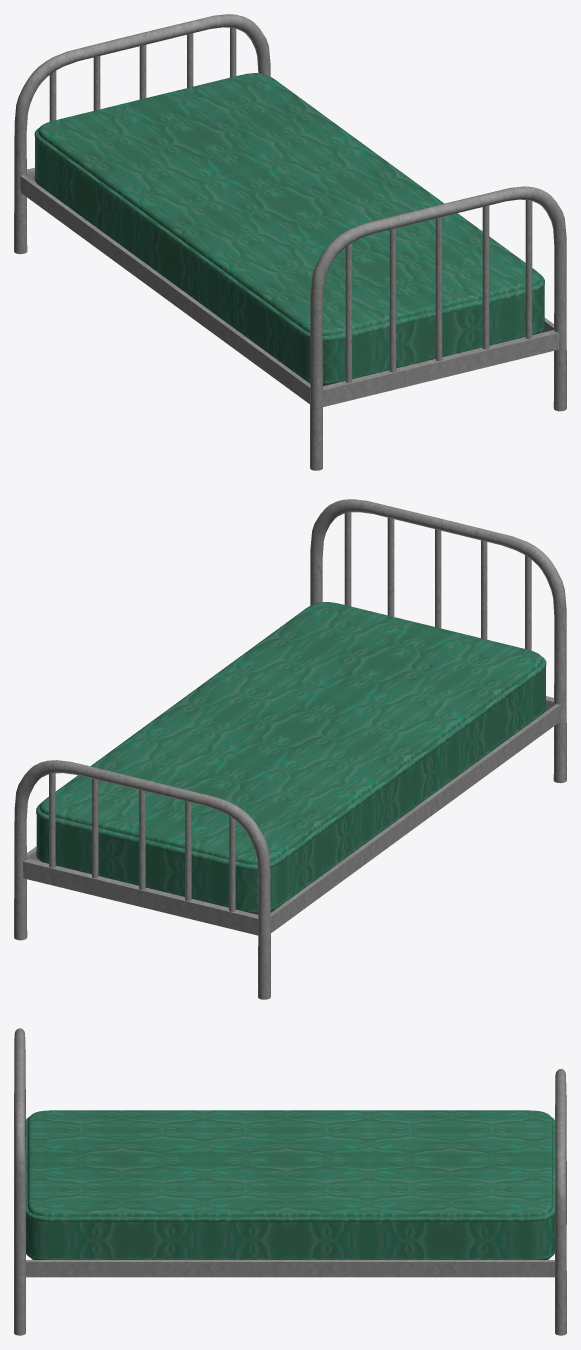
File: bed.fbx
3 renders of one model, top to bottom at view 1: azimuth 30°, elevation 25°; view 2: azimuth 150°, elevation 25°; view 3: azimuth 270°, elevation 25°, orthographic. The views are drawn at different scales.
Visible parts, largest first — view 1: Box001, Cylinder001; view 2: Box001, Cylinder001; view 3: Box001, Cylinder001.
Part boxes in pixels (x1,y1,x2,y2): Box001: [34, 73, 544, 386]; Cylinder001: [14, 14, 566, 470]; Box001: [36, 602, 546, 914]; Cylinder001: [14, 499, 566, 999]; Box001: [25, 1110, 555, 1259]; Cylinder001: [14, 1028, 566, 1335].
Size of the model in its own units: 1.66 by 3.41 by 1.45.
2 materials, 2 textured.
